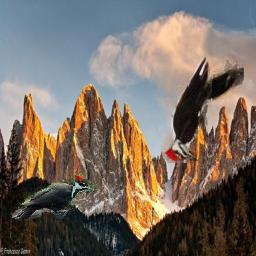Woodpecker: (162, 55, 245, 163), (12, 173, 94, 219)
